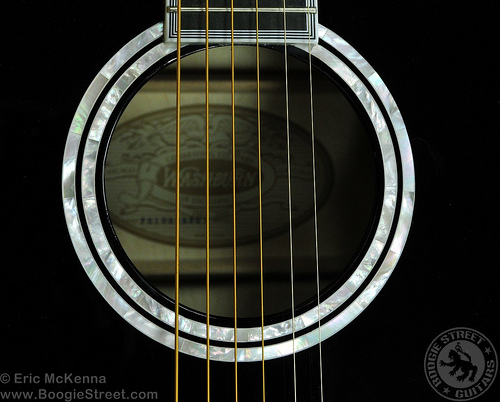guitar: (1, 1, 500, 402)
